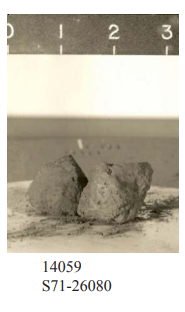Breccia: (8, 131, 163, 230)
